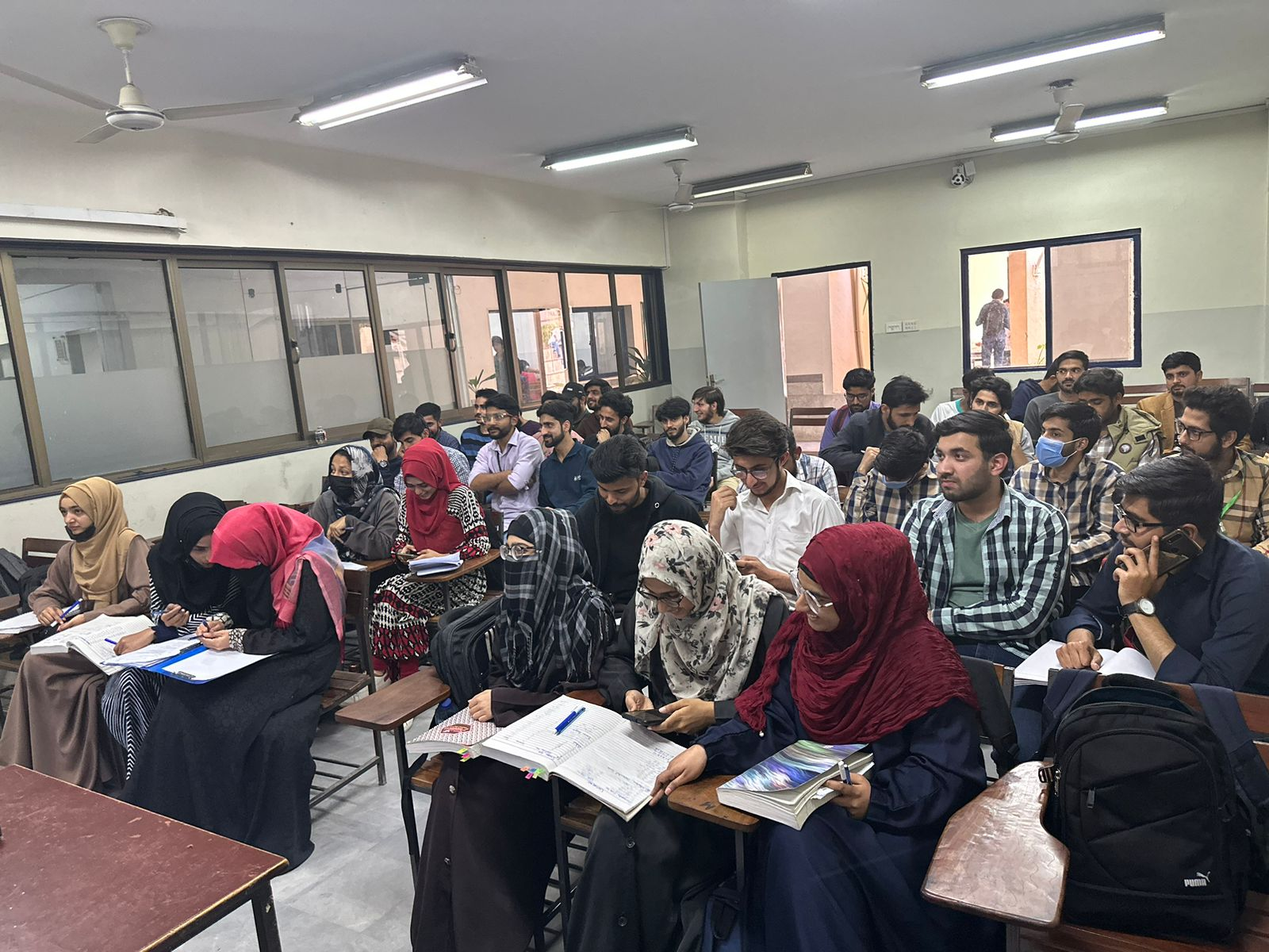non-cheating: (932, 408, 1014, 506), (496, 507, 577, 596), (726, 406, 793, 502), (587, 434, 652, 516), (56, 477, 126, 548), (868, 426, 930, 500), (1158, 348, 1204, 399), (327, 444, 366, 498), (840, 364, 879, 417), (479, 392, 520, 442), (538, 399, 577, 449), (654, 393, 692, 444), (595, 392, 634, 441), (1050, 348, 1090, 393), (361, 416, 397, 462), (583, 377, 604, 411)
phone: (1105, 524, 1210, 628), (615, 681, 713, 740), (393, 540, 442, 566)
